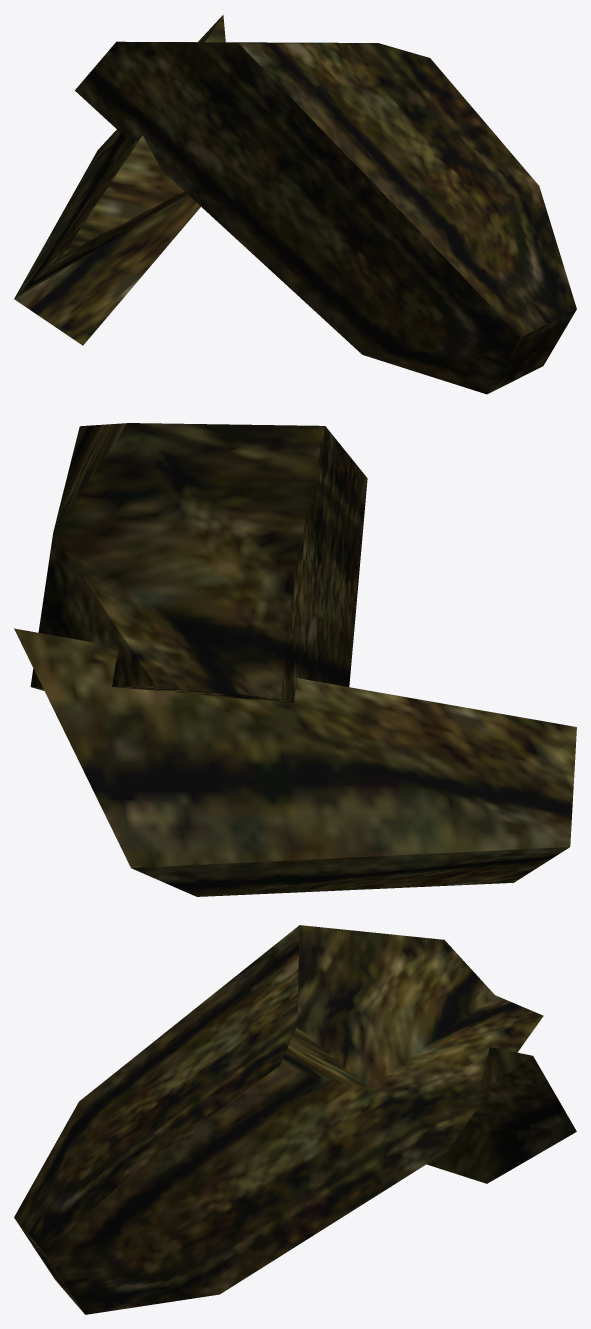
Rendered from cem_pillar2b.glb.
3 renders of one model, top to bottom at view 1: azimuth 30°, elevation 25°; view 2: azimuth 150°, elevation 25°; view 3: azimuth 270°, elevation 25°, orthographic. The views are drawn at different scales.
Visible parts, largest first — view 1: cem_pillar2b-col; view 2: cem_pillar2b-col; view 3: cem_pillar2b-col.
Part boxes in pixels (left/top/right/bottom): cem_pillar2b-col: left=14, top=15, right=576, bottom=394; cem_pillar2b-col: left=14, top=423, right=576, bottom=896; cem_pillar2b-col: left=14, top=925, right=576, bottom=1314.
Size of the model in its own units: 1.16 by 0.7794 by 1.36.
Materials: 1 (1 with a texture image).
